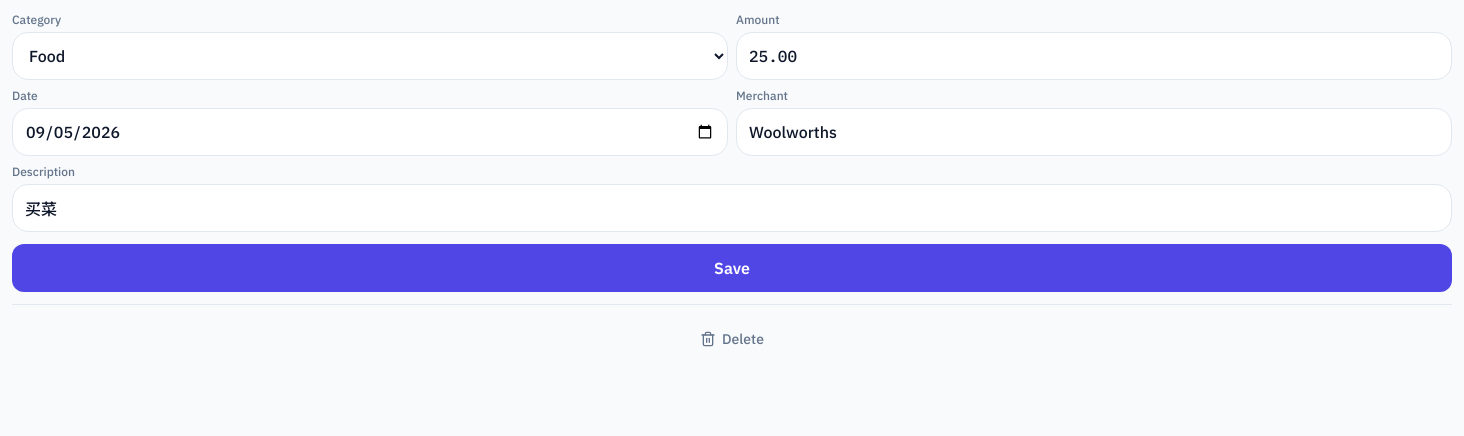
Scenario: EditForm › 确认态点取消退回，不删除
Step 1. Click the button "Delete" → (732, 339), box [688,317,776,361]
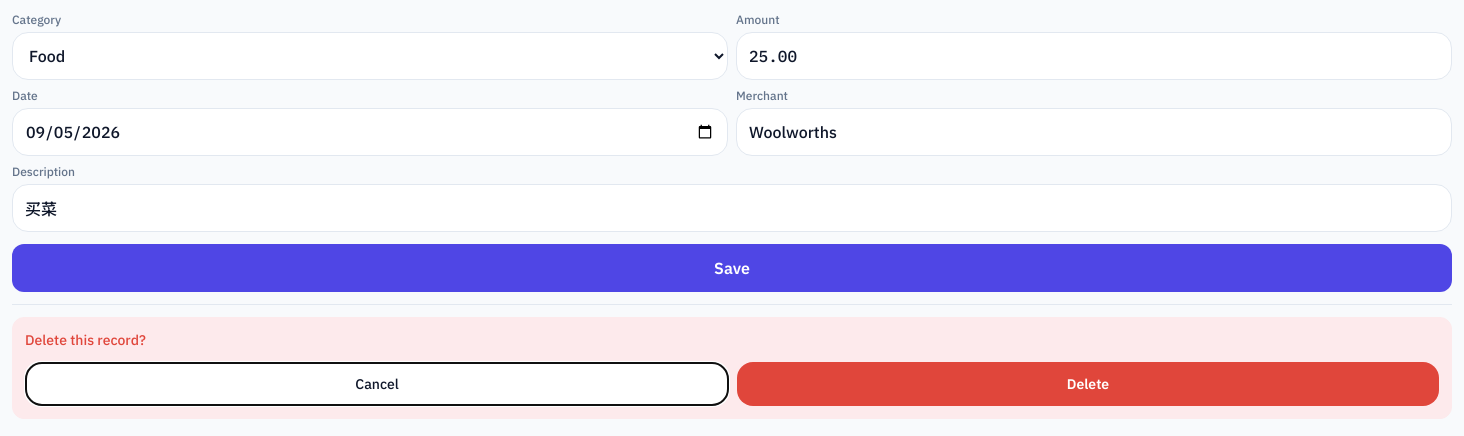
Step 2. Click the button "Cancel" → (377, 384), box [25,362,729,406]
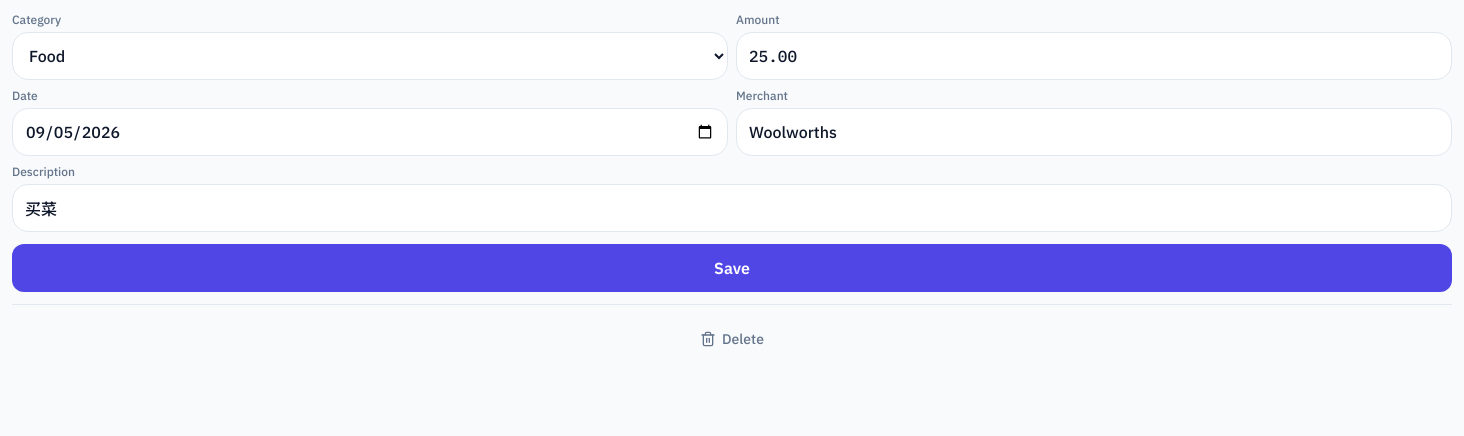
Check: the text "Delete this record?" is gone
